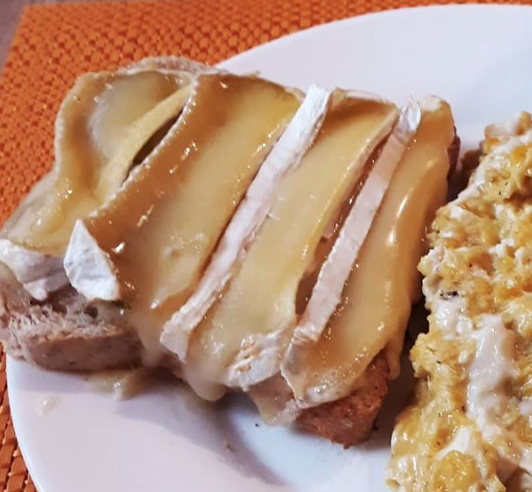camembert: (2, 63, 459, 392)
